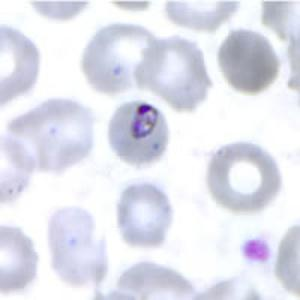Infected: (108, 99, 168, 167)
Uninfected: (5, 98, 93, 172), (133, 39, 212, 112), (80, 22, 156, 93), (207, 143, 281, 210), (47, 207, 107, 286), (220, 27, 281, 93), (117, 183, 174, 246)
